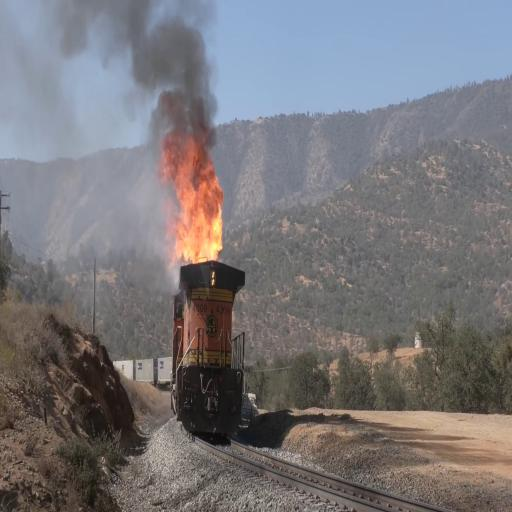fire: (161, 124, 220, 270)
smoke: (86, 0, 220, 116)
